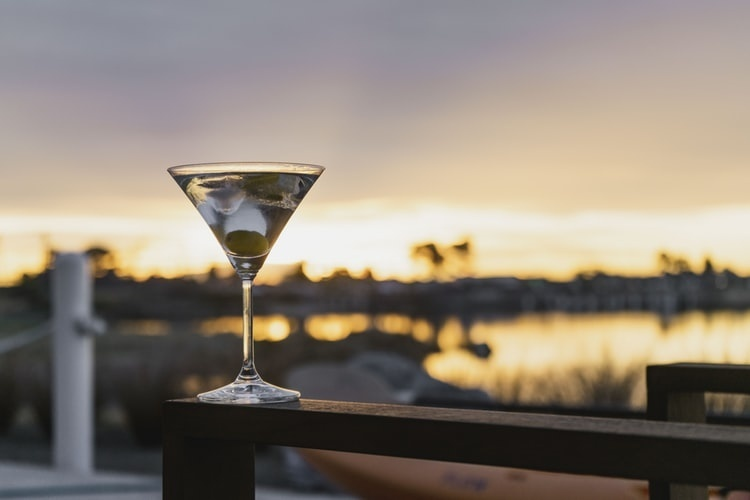whiskey: (171, 160, 326, 410)
